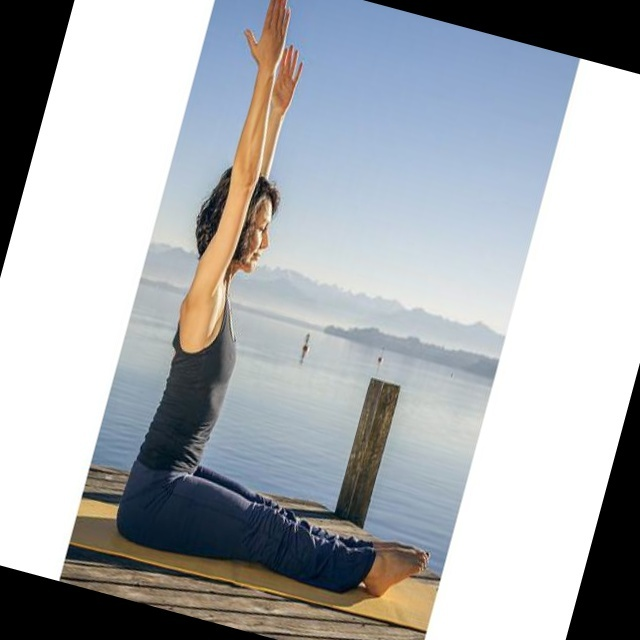Staff_Pose: (119, 167, 429, 599)
